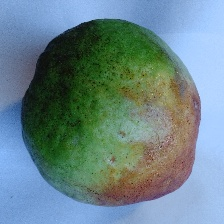guava: (22, 12, 203, 204)
